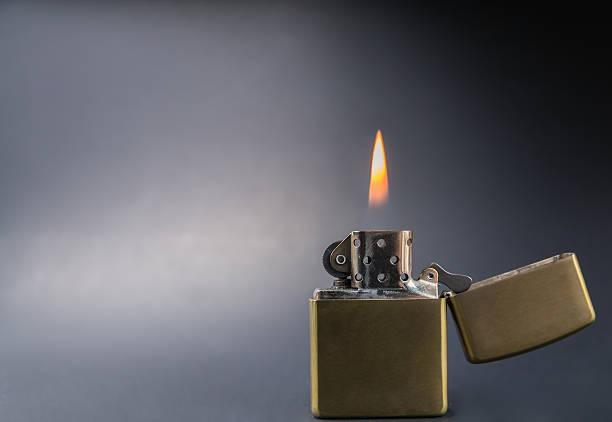Fire: (364, 122, 392, 214)
